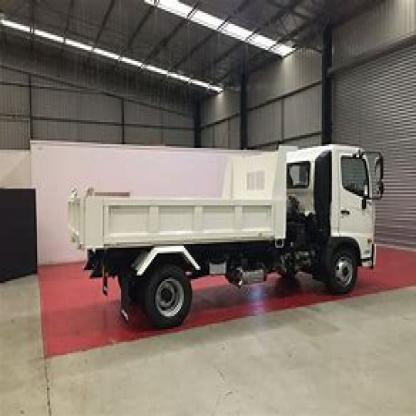dump_truck: (64, 130, 380, 314)
